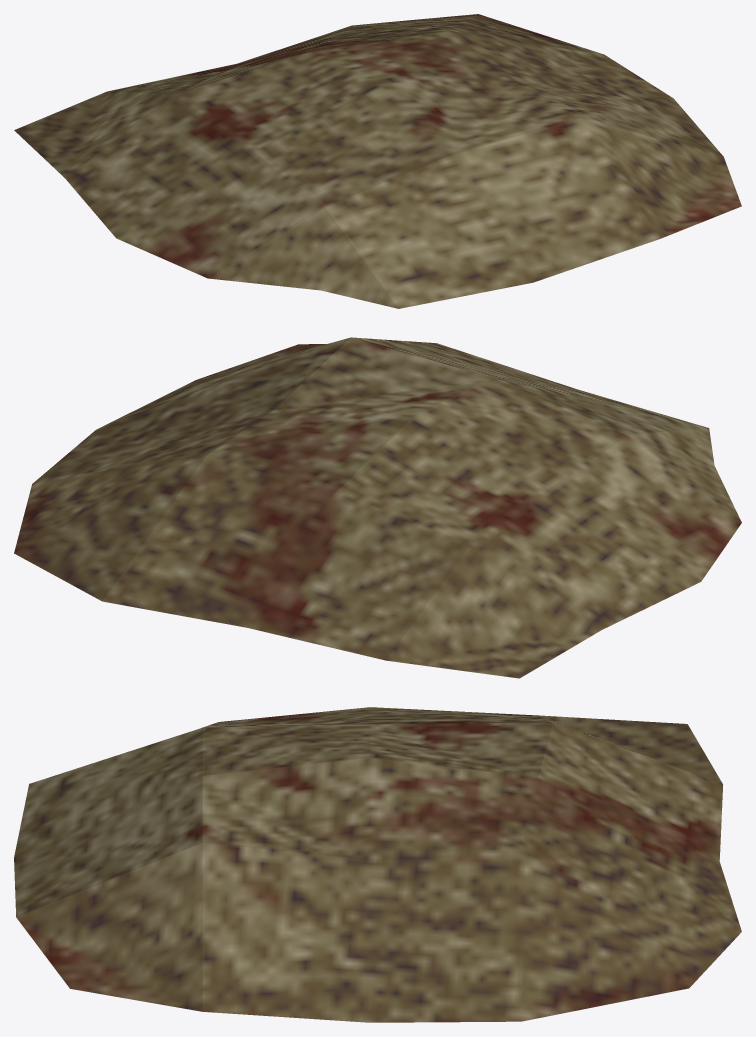
Rendered from SM_EC_Horror_Hay_Patch_2.fbx.
The picture shows the model from 3 angles, top to bottom: view 1: azimuth 30°, elevation 25°; view 2: azimuth 150°, elevation 25°; view 3: azimuth 270°, elevation 25°; orthographic projection. The views are drawn at different scales.
Parts seen in each view (by area): view 1: SM_EC_Horror_Hay_Patch_2; view 2: SM_EC_Horror_Hay_Patch_2; view 3: SM_EC_Horror_Hay_Patch_2.
Boxes of the visible parts, x1,y1,x2,y2 form: SM_EC_Horror_Hay_Patch_2: (14, 14, 741, 308); SM_EC_Horror_Hay_Patch_2: (14, 337, 741, 678); SM_EC_Horror_Hay_Patch_2: (14, 707, 741, 1022).
Size of the model in its own units: 1.52 by 1.46 by 0.2259.
